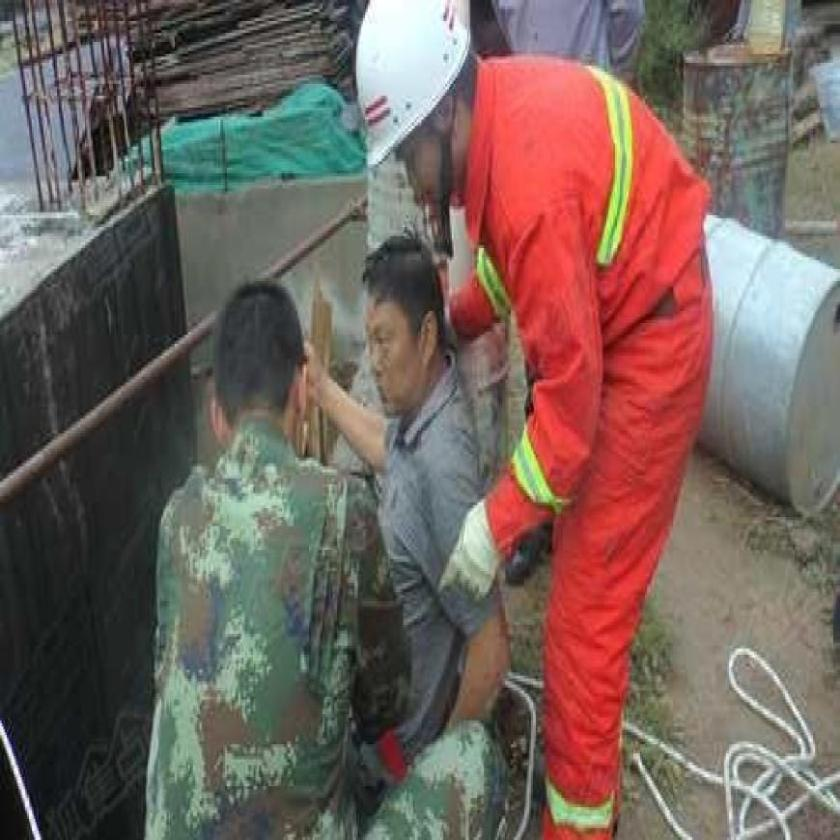Con_casco: (341, 0, 504, 216)
Sin_casco: (207, 267, 319, 469), (357, 239, 448, 427)
